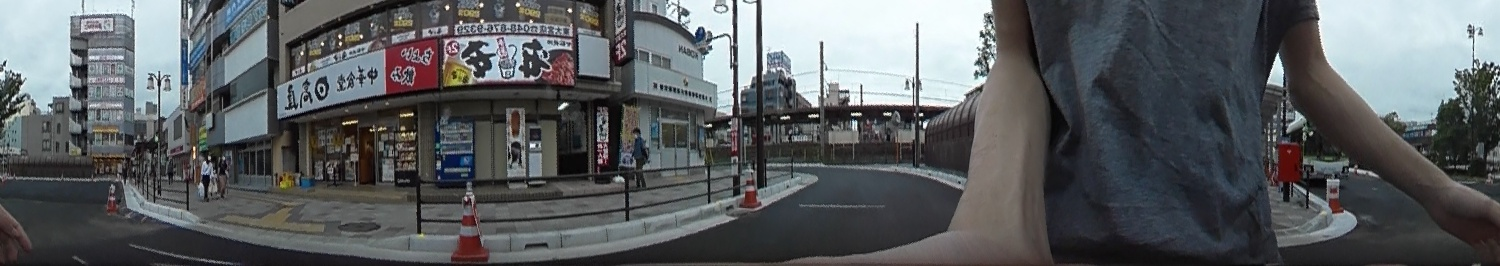difficult_person: (215, 152, 229, 198), (199, 155, 210, 199)
person: (629, 126, 650, 188)
